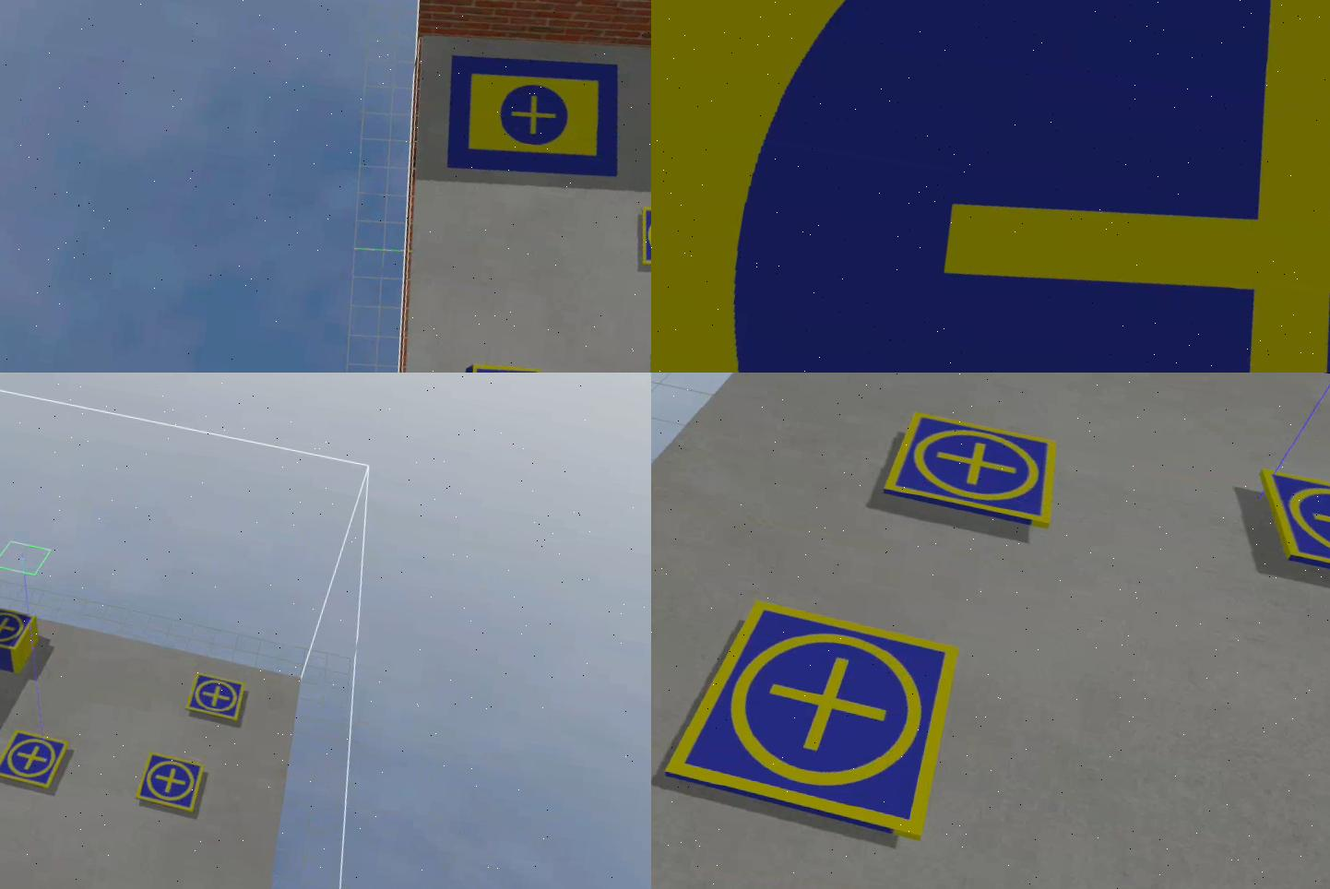large_base: (652, 1, 1330, 373), (433, 41, 636, 193)
small_base: (657, 586, 971, 856), (885, 410, 1070, 536), (1245, 466, 1330, 604), (1, 729, 70, 793), (137, 753, 207, 815), (185, 670, 250, 723), (1, 603, 39, 653), (629, 199, 652, 278)
